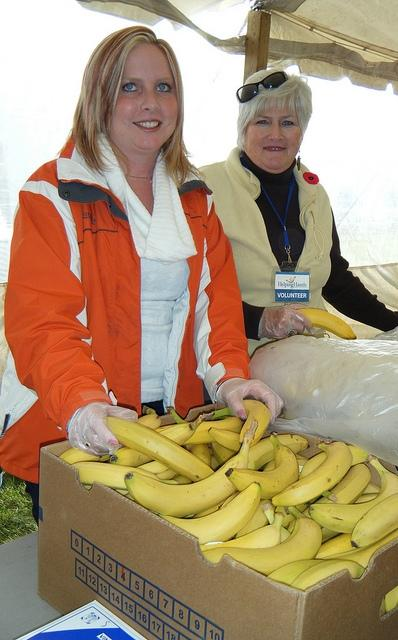banana: (124, 419, 258, 517), (203, 506, 322, 577), (107, 414, 216, 482), (308, 453, 398, 534), (158, 482, 262, 545), (286, 463, 372, 534), (110, 412, 215, 468), (272, 442, 352, 506), (225, 432, 299, 500), (299, 445, 369, 503), (199, 512, 284, 552), (167, 408, 211, 484), (71, 462, 180, 491), (210, 400, 272, 448), (111, 460, 180, 502), (152, 416, 243, 446), (350, 492, 398, 548), (320, 531, 392, 568), (289, 560, 365, 592), (248, 434, 308, 471), (296, 308, 357, 340), (235, 498, 276, 538), (266, 560, 327, 586), (274, 498, 316, 528), (262, 503, 290, 543), (315, 533, 356, 559), (58, 448, 112, 464), (207, 427, 240, 453), (211, 442, 237, 467), (384, 586, 398, 614), (353, 492, 380, 504), (322, 528, 340, 544), (362, 481, 380, 494), (211, 454, 221, 472), (262, 459, 275, 471), (294, 453, 310, 460), (297, 458, 308, 466)
